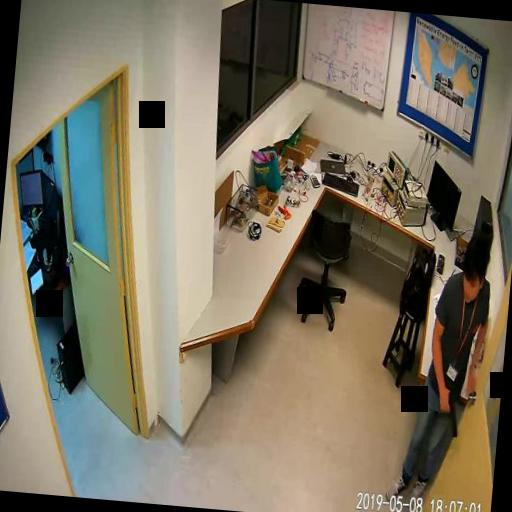Handgun: (436, 388, 461, 438)
